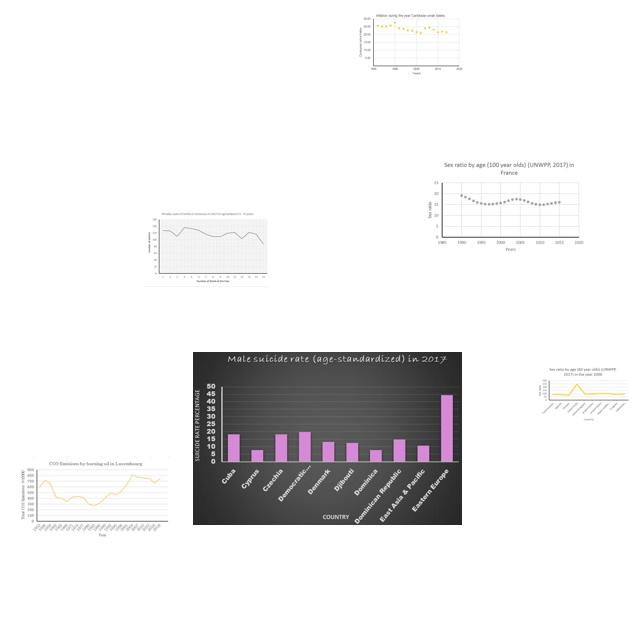Graph: (193, 352, 462, 525), (424, 159, 586, 255), (20, 456, 170, 539), (145, 210, 270, 287), (358, 13, 463, 75), (536, 365, 631, 422)
